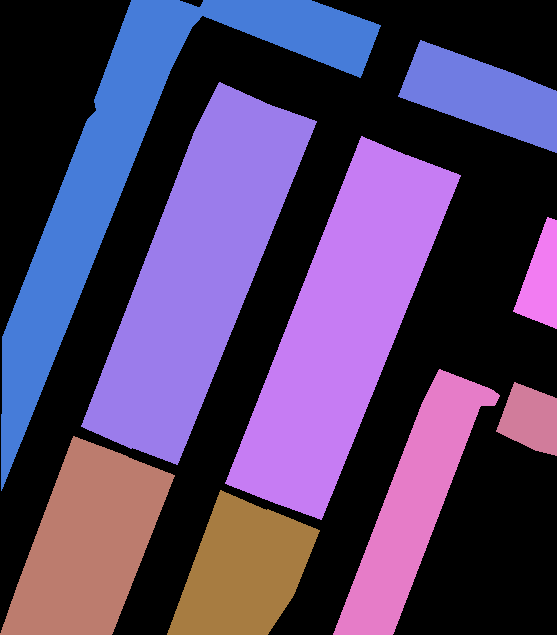parkingspot: (1, 0, 207, 490), (225, 136, 413, 503), (271, 155, 460, 519), (126, 102, 316, 464), (81, 82, 266, 448), (333, 369, 499, 635), (0, 436, 127, 635), (52, 455, 174, 635), (398, 40, 557, 152), (167, 490, 271, 635), (197, 0, 380, 77), (221, 509, 319, 634), (513, 217, 557, 328), (496, 382, 557, 456)
